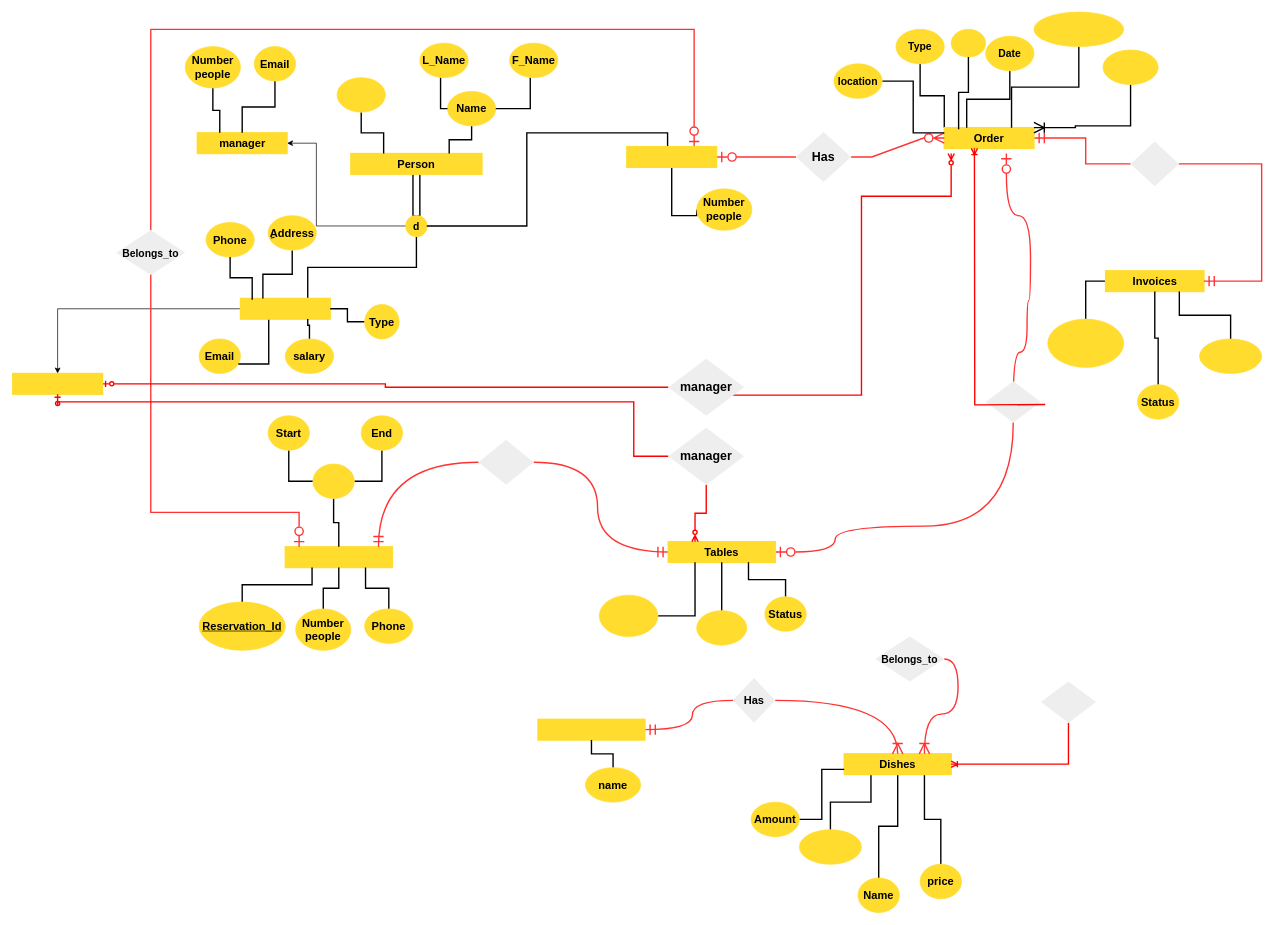
This 1283x925 diagram has some shape labels left out. Each missing label, with the centre of its shape:
Calculation: the point at 1230,355
Capacity: the point at 721,627
Contains: the point at 1068,701
Customer: the point at 671,157
Description: the point at 830,846
Employee: the point at 285,308
ID: the point at 968,43
invoices_Id: the point at 1085,342
Linked: the point at 1154,163
menu: the point at 591,729
Pay_Type: the point at 1130,67
preparation_time: the point at 1078,29
Reservation: the point at 338,557
Reserves: the point at 505,462
Serves: the point at 1013,401
ssn: the point at 360,94
Tables_ID: the point at 628,615
Time: the point at 333,481
Waiter: the point at 57,383
